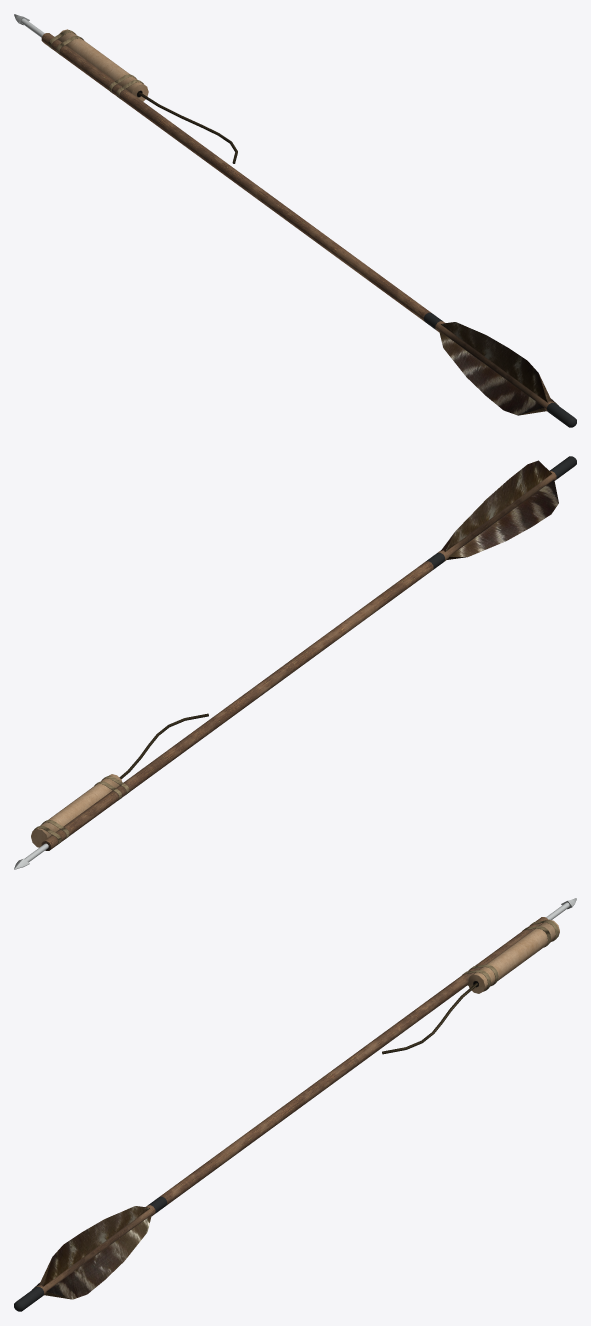
Rendered from SM_Arrow01b.fbx.
3 renders of one model, top to bottom at view 1: azimuth 30°, elevation 25°; view 2: azimuth 150°, elevation 25°; view 3: azimuth 330°, elevation 25°, orthographic.
Visible parts, largest first — view 1: SM_Arrow01b; view 2: SM_Arrow01b; view 3: SM_Arrow01b.
Part boxes in pixels (bbox=[...]): SM_Arrow01b: bbox=[14, 14, 576, 427]; SM_Arrow01b: bbox=[14, 456, 576, 869]; SM_Arrow01b: bbox=[14, 898, 576, 1311].
Size of the model in its own units: 11.61 by 200 by 8.71.
1 material, 1 textured.
